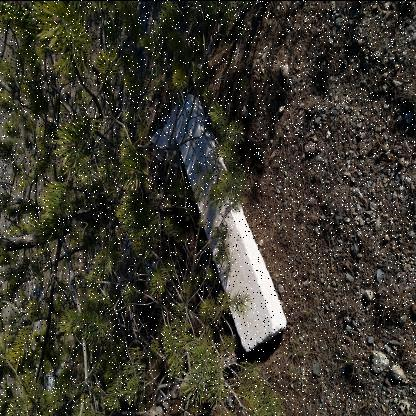foam: (175, 93, 287, 350)
